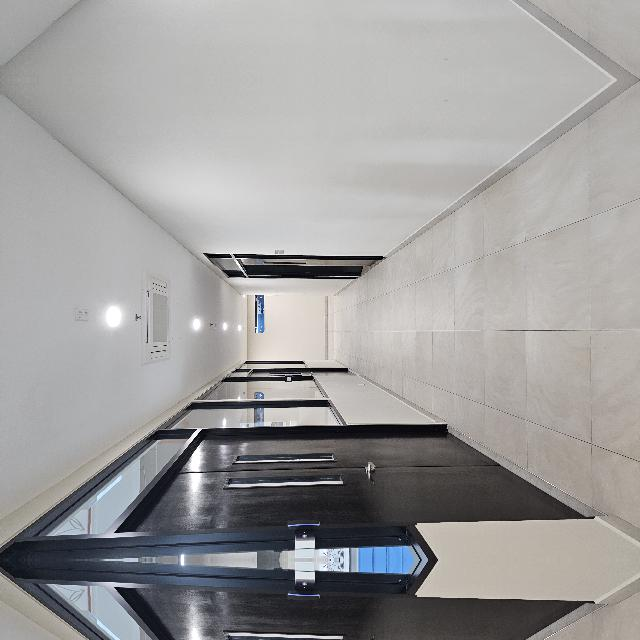door: (22, 192, 135, 640), (22, 446, 135, 640), (275, 318, 313, 464)
